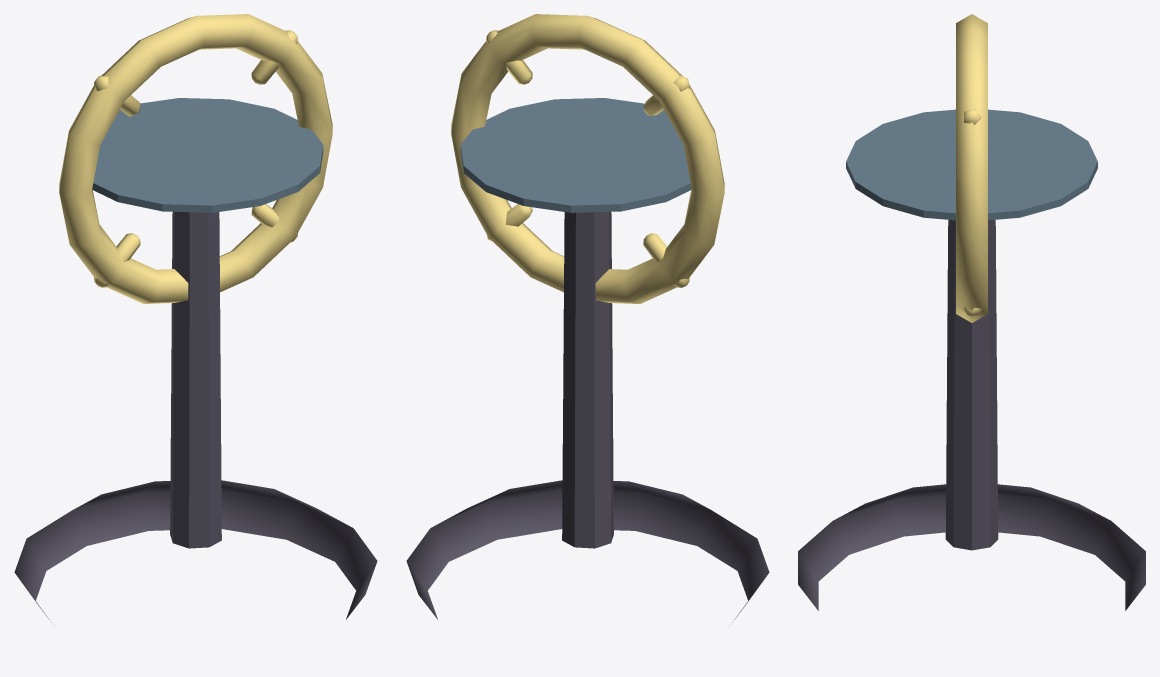
File: mythic-underworld-and-olympus-dark-mirror-eb889b3a__21438.glb
The picture shows the model from 3 angles, left to right: view 1: azimuth 30°, elevation 25°; view 2: azimuth 150°, elevation 25°; view 3: azimuth 270°, elevation 25°; orthographic projection. The views are drawn at different scales.
Visible parts, largest first — view 1: dark-mirror; view 2: dark-mirror; view 3: dark-mirror.
Part boxes in pixels (left/top/right/bottom): dark-mirror: left=14, top=14, right=377, bottom=622; dark-mirror: left=406, top=14, right=769, bottom=622; dark-mirror: left=798, top=14, right=1145, bottom=610.
Size of the model in its own units: 0.68 by 1.2 by 0.663.
